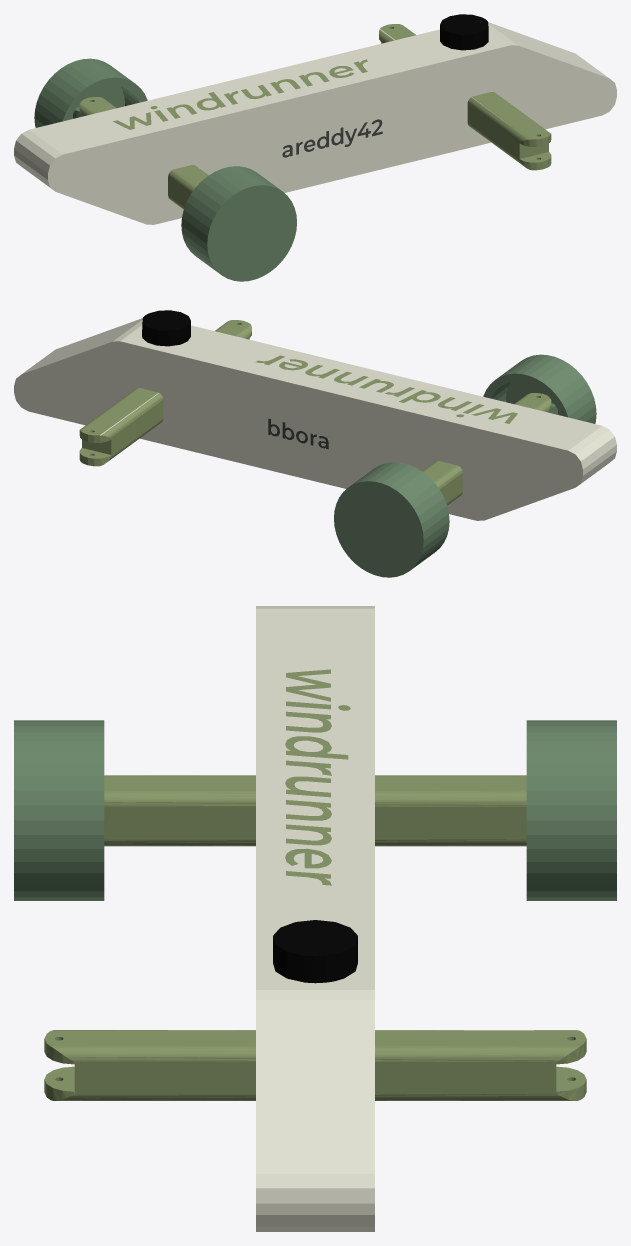
Rendered from chassis.dae.
3 views of the same model, one above another, from view 1: azimuth 30°, elevation 25°; view 2: azimuth 150°, elevation 25°; view 3: azimuth 270°, elevation 25° (orthographic). The views are drawn at different scales.
Parts seen in each view (by area): view 1: chassis; view 2: chassis; view 3: chassis.
Boxes of the visible parts, box(x1,y1,x2,y2) form: chassis: box(14, 14, 616, 281); chassis: box(14, 310, 616, 577); chassis: box(14, 606, 616, 1231).
Size of the model in its own units: 0.9652 by 0.508 by 0.1938.
